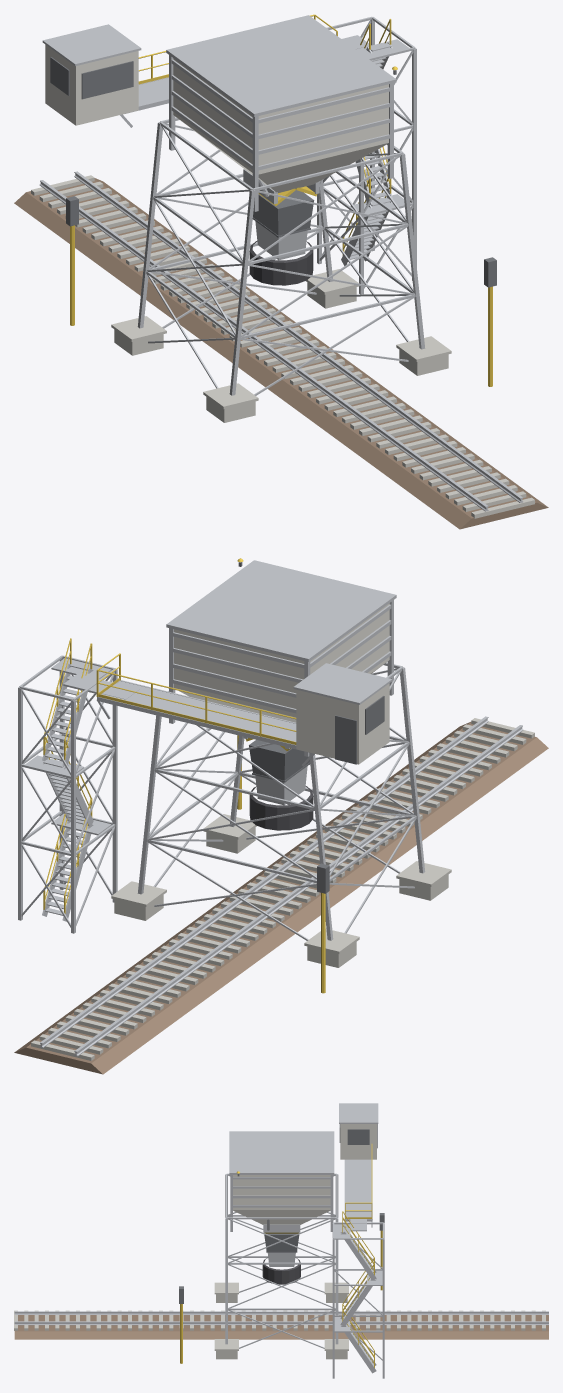
Rendered from ore-processing-and-haulage-plant-rail-loadout-bin-0597b778.glb.
The picture shows the model from 3 angles, top to bottom: view 1: azimuth 30°, elevation 25°; view 2: azimuth 150°, elevation 25°; view 3: azimuth 270°, elevation 25°; orthographic projection. The views are drawn at different scales.
Visible parts, largest first — view 1: rail-loadout-bin; view 2: rail-loadout-bin; view 3: rail-loadout-bin.
Part boxes in pixels (x1,y1,x2,y2): rail-loadout-bin: (14, 14, 548, 529); rail-loadout-bin: (14, 558, 548, 1074); rail-loadout-bin: (14, 1103, 548, 1378).
Size of the model in its own units: 13.93 by 11.74 by 32.04.
